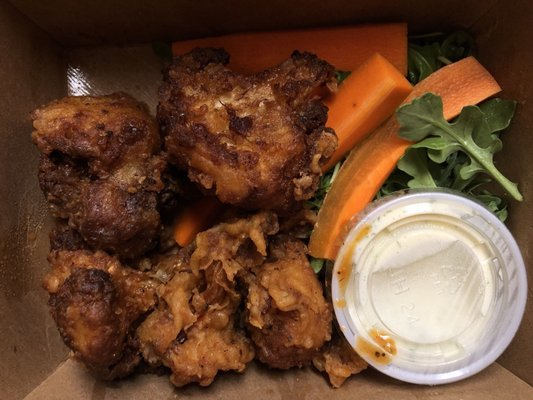pizza: (327, 191, 529, 380)
